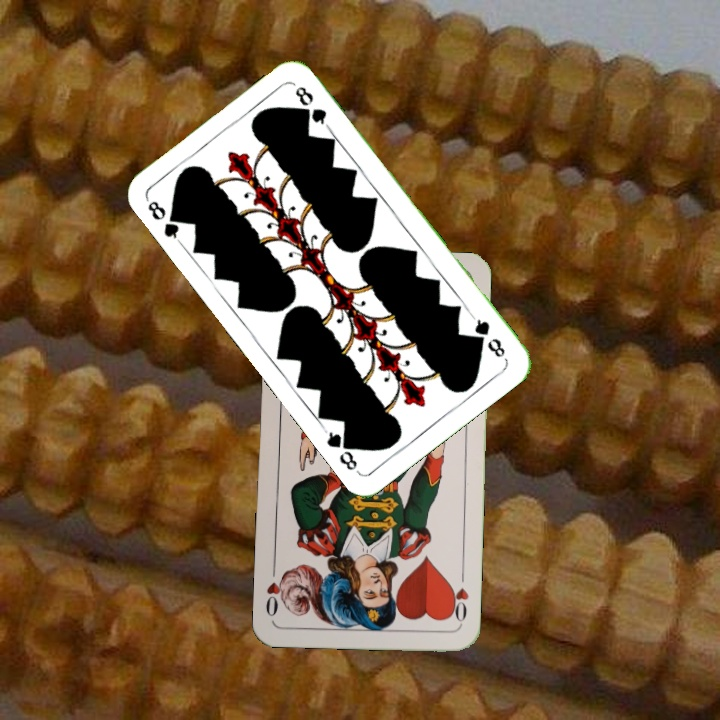G8: (142, 196, 186, 246), (467, 312, 508, 361)
HO: (445, 567, 471, 626)
